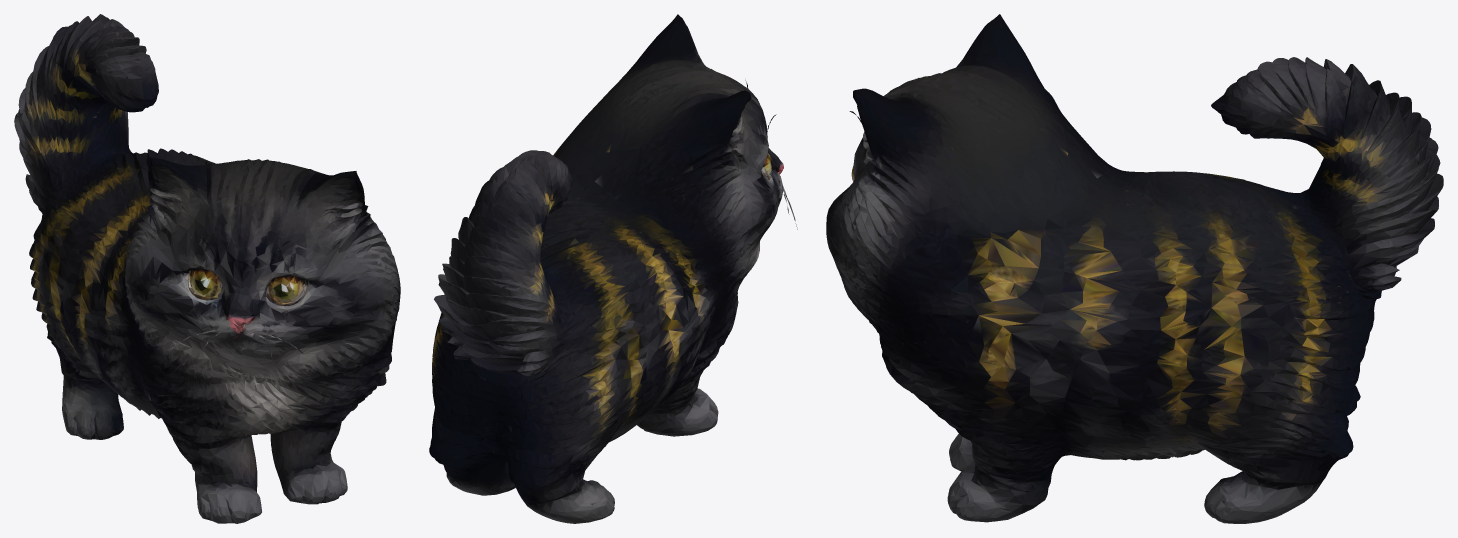
The model's file is pet_xuanmao.glb.
3 renders of one model, left to right at view 1: azimuth 30°, elevation 25°; view 2: azimuth 150°, elevation 25°; view 3: azimuth 270°, elevation 25°, orthographic. The views are drawn at different scales.
Visible parts, largest first — view 1: xuanmao; view 2: xuanmao; view 3: xuanmao.
Boxes of the visible parts, left/top/right/bottom form: xuanmao: left=14, top=14, right=400, bottom=523; xuanmao: left=429, top=14, right=797, bottom=523; xuanmao: left=826, top=14, right=1443, bottom=523.
Bounding box in the file's own units: 0.6671 × 1 × 1.33.
Materials: 1 (1 with a texture image).
